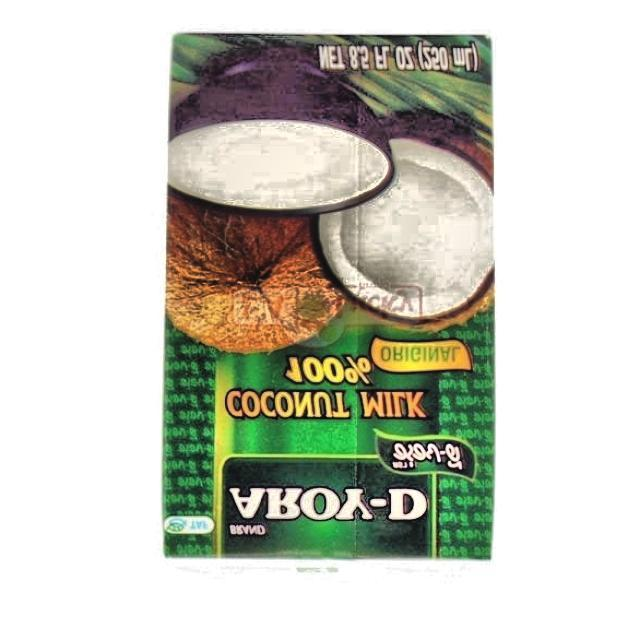cardboard: (162, 34, 496, 562)
